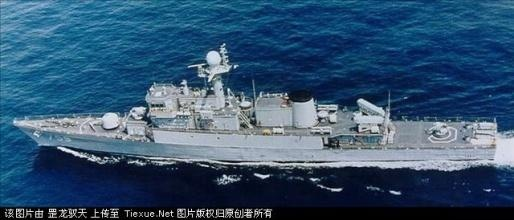warship: (15, 51, 491, 159)
